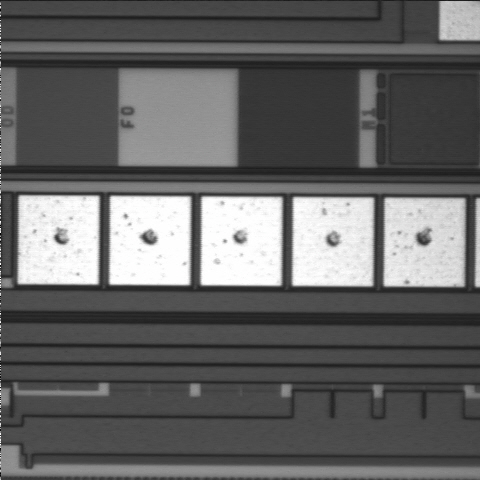pad: (109, 196, 191, 285), (292, 197, 374, 286), (201, 197, 282, 286), (18, 196, 99, 284), (384, 198, 465, 286)
